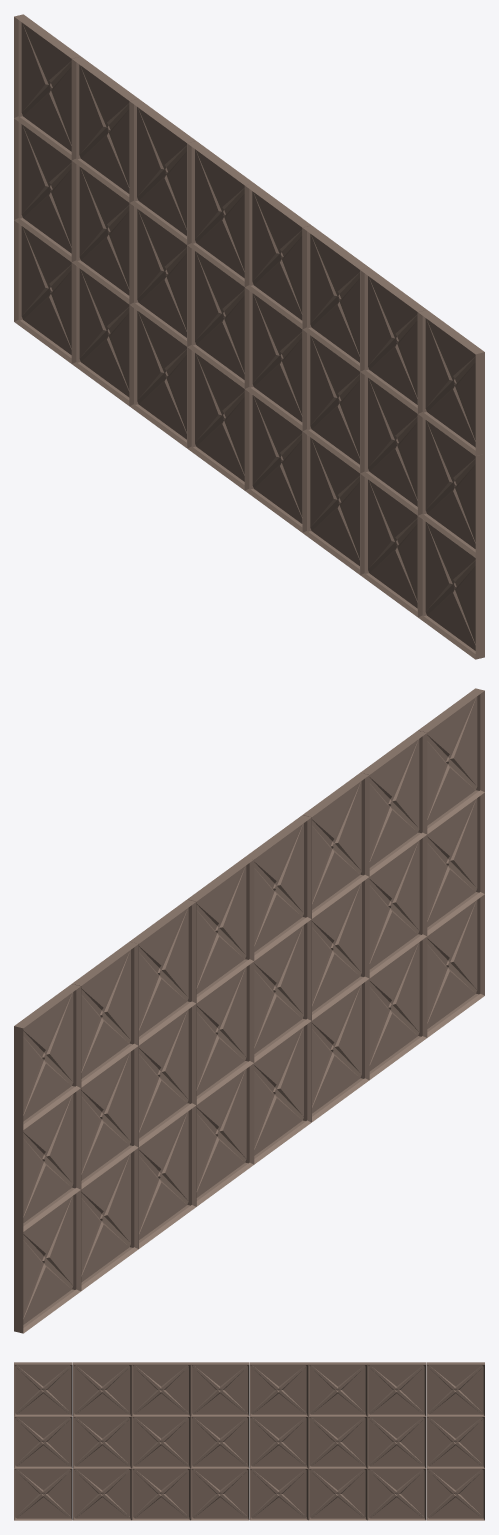
File: wall_selection_2.fbx
3 views of the same model, one above another, from view 1: azimuth 30°, elevation 25°; view 2: azimuth 150°, elevation 25°; view 3: azimuth 270°, elevation 25° (orthographic). The views are drawn at different scales.
Parts seen in each view (by area): view 1: Wall_3_single33; view 2: Wall_3_single33; view 3: Wall_3_single33.
Boxes of the visible parts, box(x1,y1,x2,y2) form: Wall_3_single33: box(14, 14, 484, 659); Wall_3_single33: box(14, 688, 484, 1333); Wall_3_single33: box(14, 1362, 484, 1520).
Bounding box in the file's own units: 0.7031 × 21.65 × 59.33.
